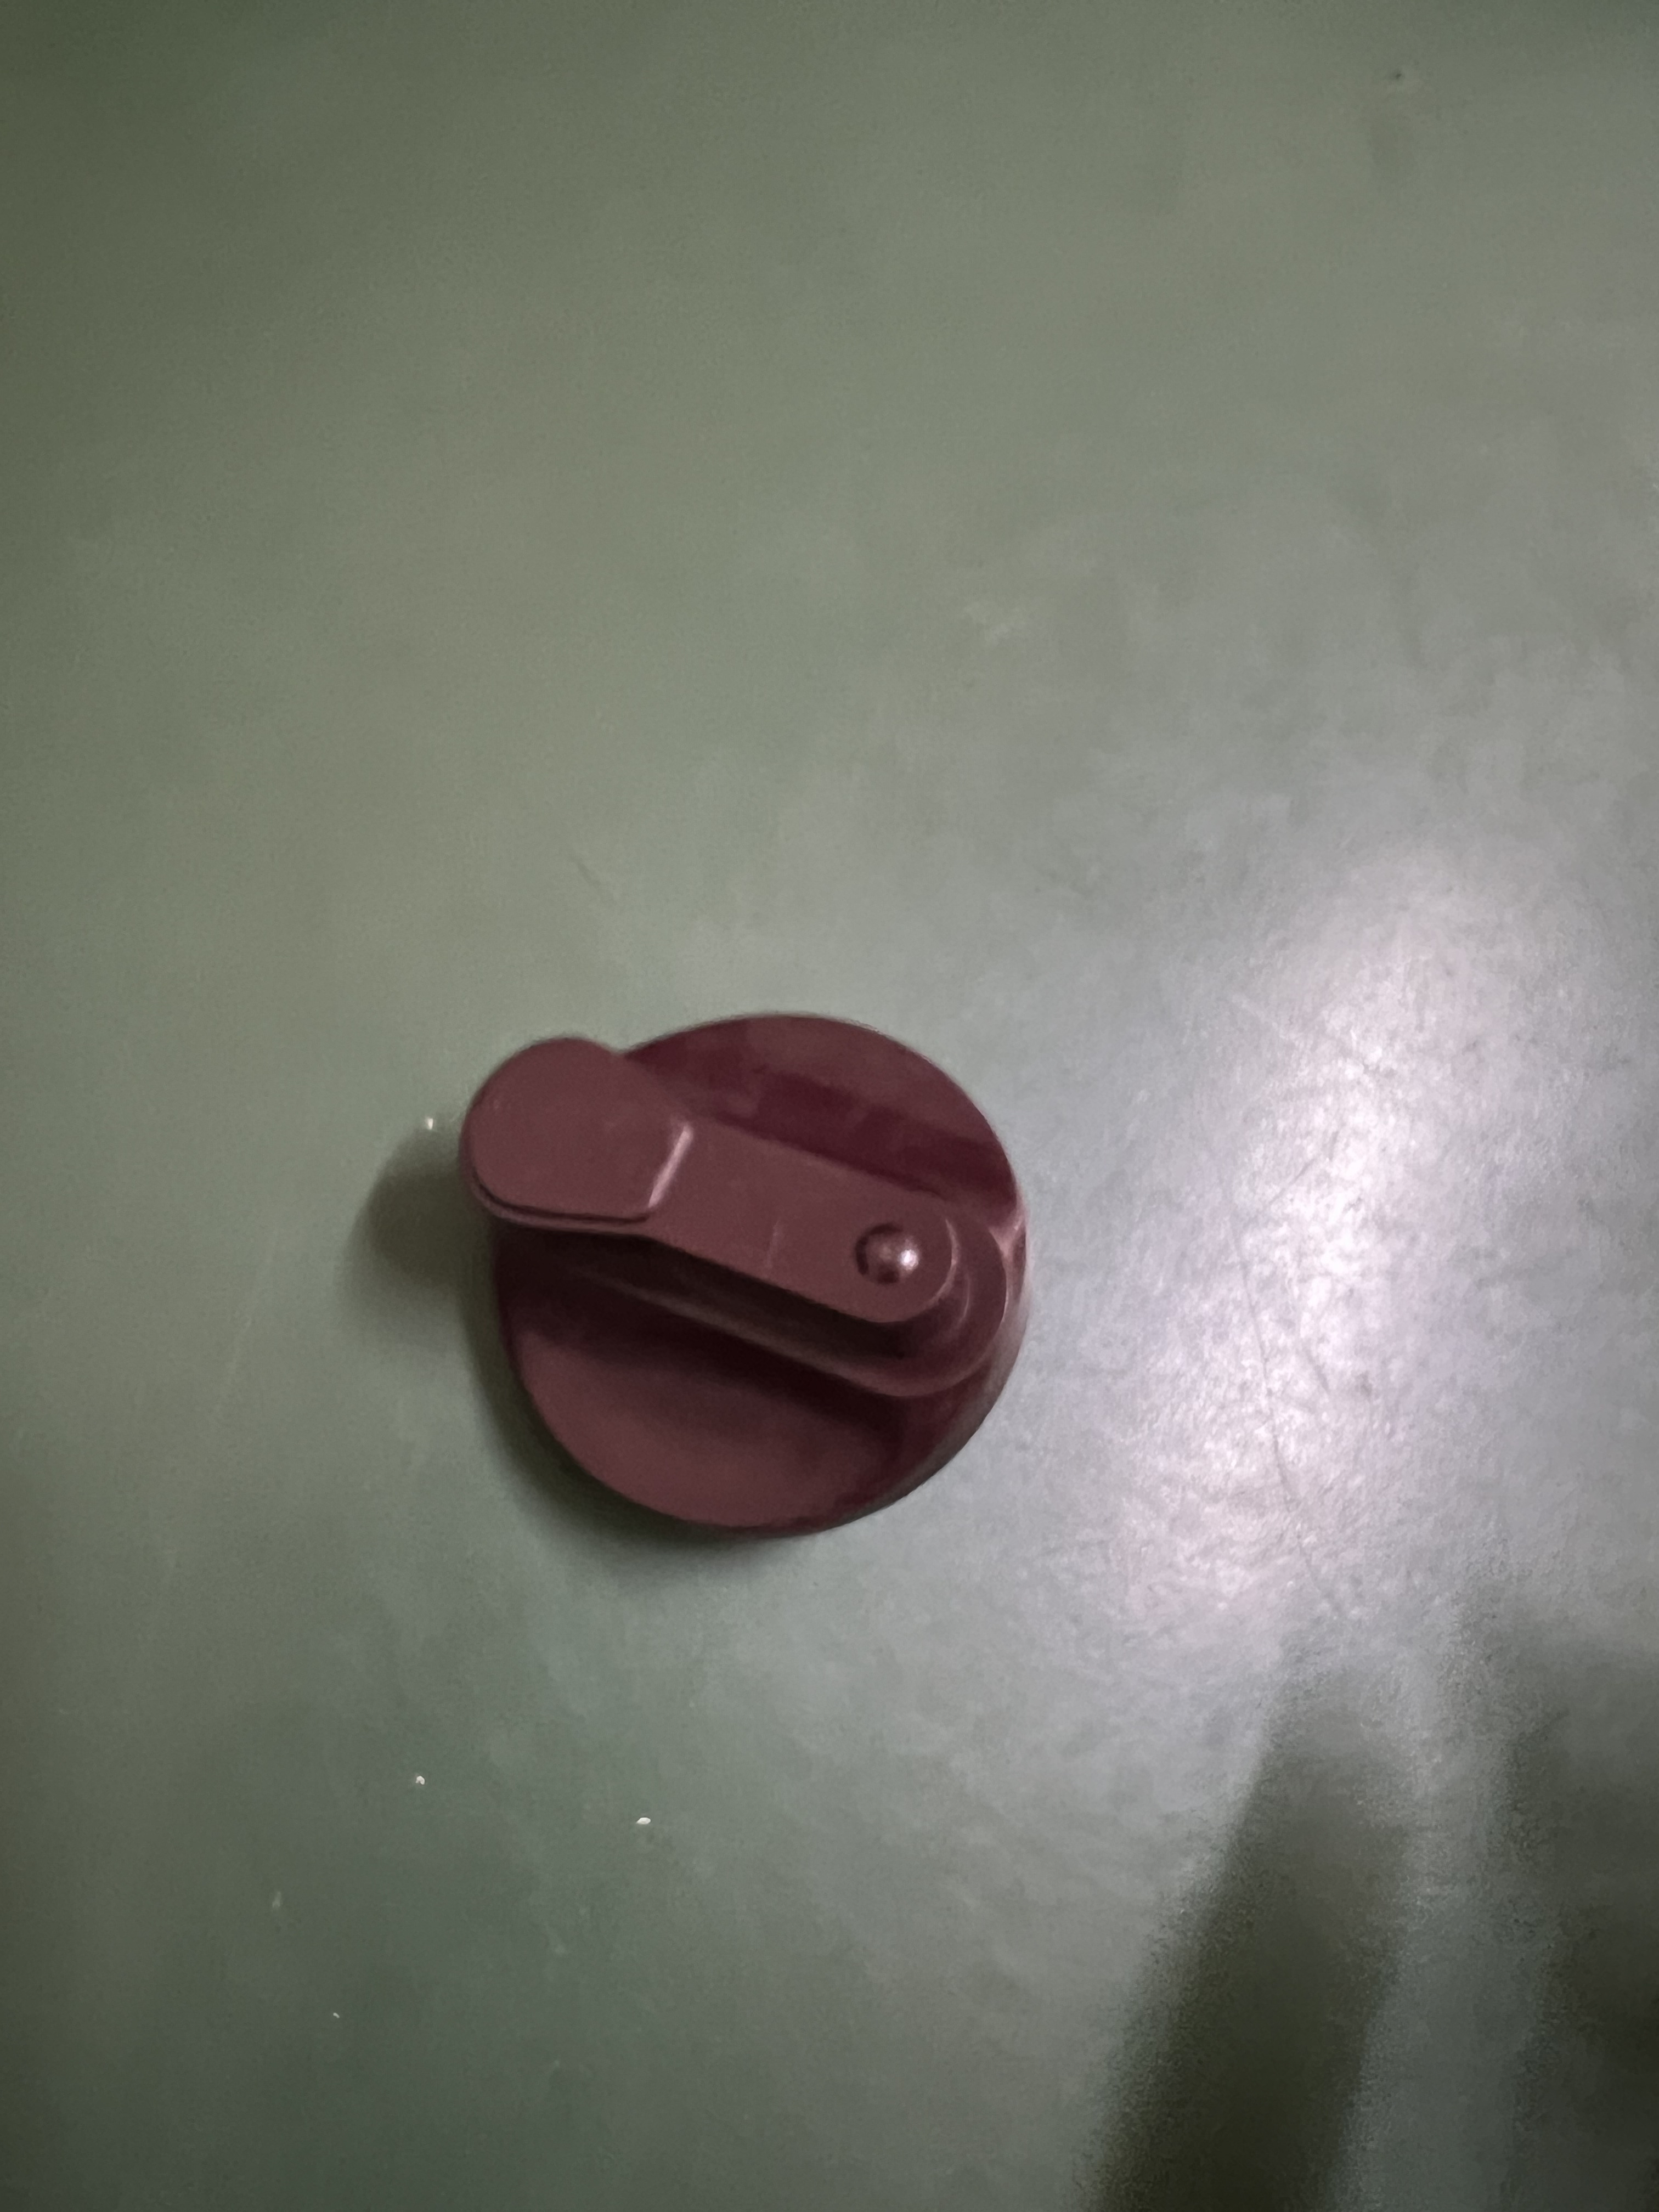regulator: (436, 997, 1079, 1554)
